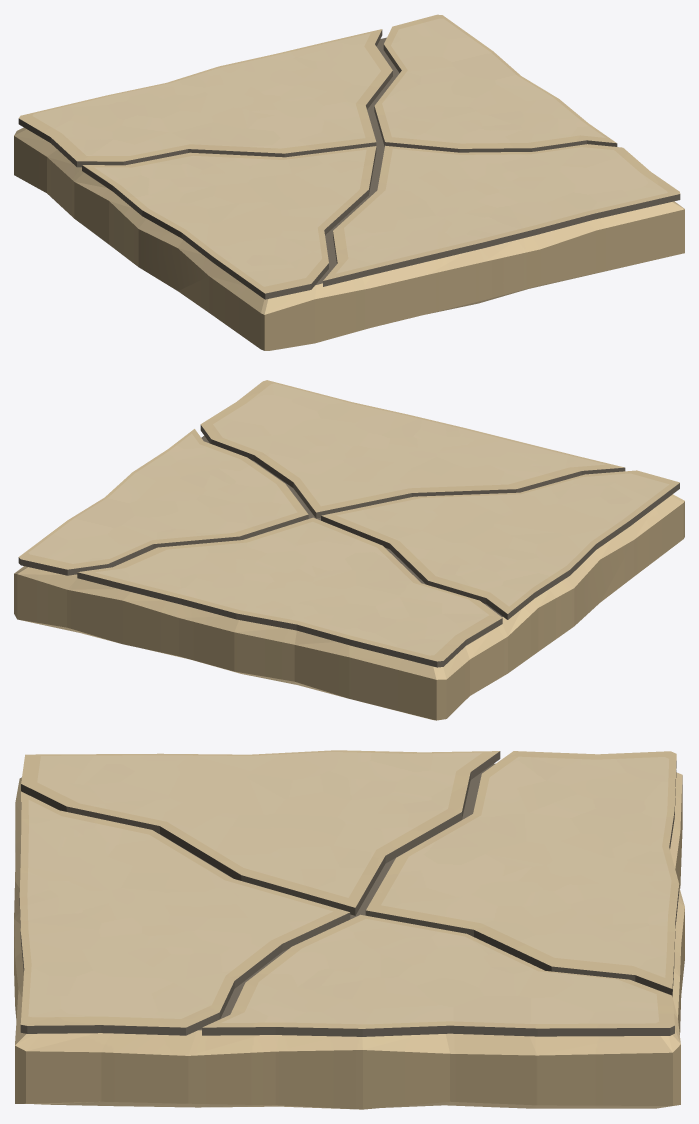
The model's file is tile_b_cracked.glb.
3 renders of one model, top to bottom at view 1: azimuth 30°, elevation 25°; view 2: azimuth 150°, elevation 25°; view 3: azimuth 270°, elevation 25°, orthographic. The views are drawn at different scales.
Visible parts, largest first — view 1: tile_b_cracked; view 2: tile_b_cracked; view 3: tile_b_cracked.
Part boxes in pixels (box(x1,y1,x2,y2)): tile_b_cracked: box(14, 14, 684, 350); tile_b_cracked: box(14, 380, 684, 720); tile_b_cracked: box(14, 750, 684, 1109).
Size of the model in its own units: 2.8 by 0.4 by 2.8.
Materials: 4 (3 with a texture image).
